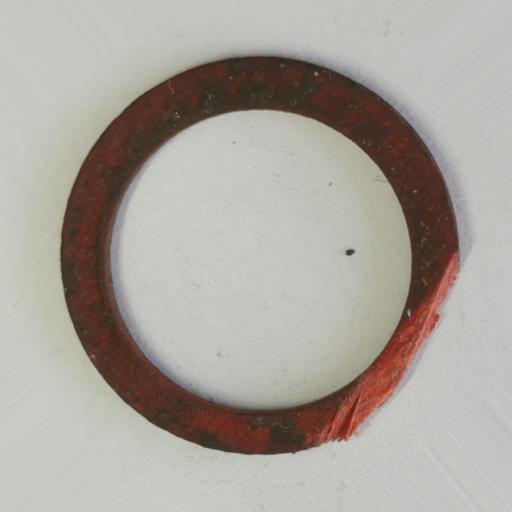defect: (318, 252, 461, 447)
